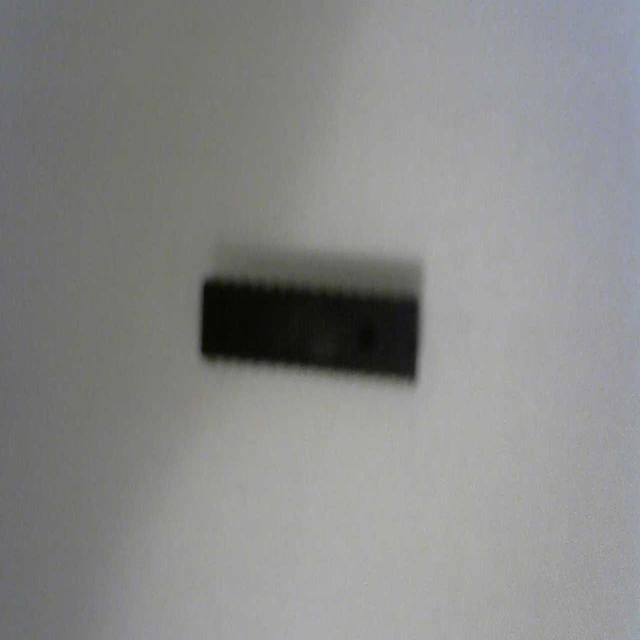atmega: (196, 264, 424, 388)
